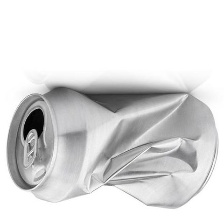can: (2, 77, 219, 217)
